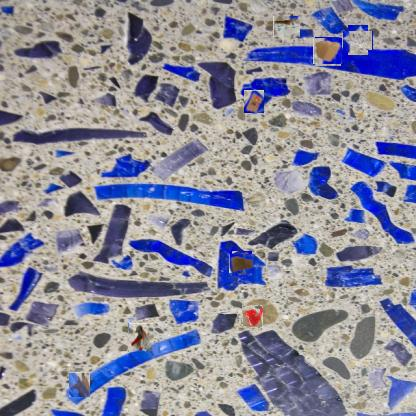dirty: (314, 38, 342, 65), (128, 323, 154, 352), (274, 14, 299, 39), (346, 28, 370, 53), (231, 252, 253, 275), (244, 90, 264, 113)
liquid: (68, 374, 91, 396), (242, 306, 263, 327)
